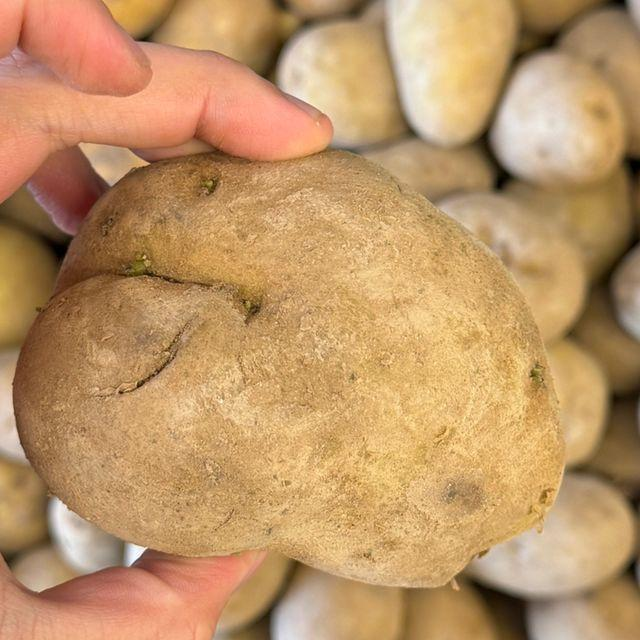potato: (9, 93, 592, 629)
